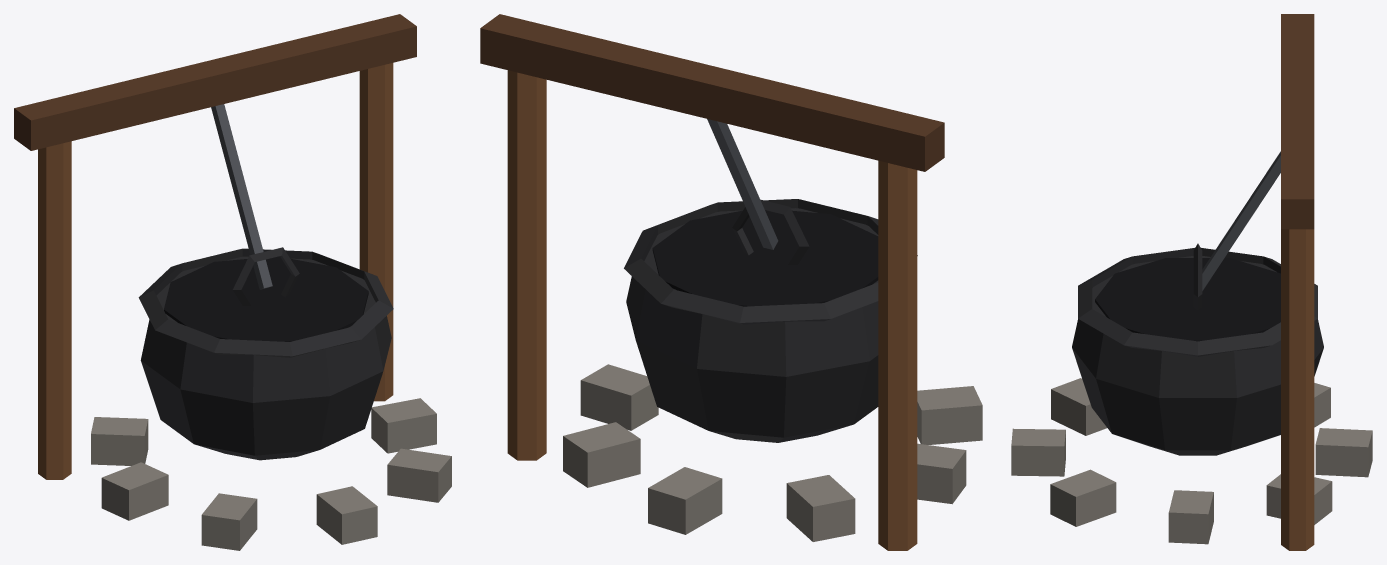
The model's file is vfem2_leather_boilpot_empty.obj.
3 views of the same model, side by side, from view 1: azimuth 30°, elevation 25°; view 2: azimuth 150°, elevation 25°; view 3: azimuth 270°, elevation 25° (orthographic). The views are drawn at different scales.
Visible parts, largest first — view 1: vfem2_leather_boilpot_empty; view 2: vfem2_leather_boilpot_empty; view 3: vfem2_leather_boilpot_empty.
Part boxes in pixels (x1,y1,x2,y2): vfem2_leather_boilpot_empty: (14, 14, 451, 550); vfem2_leather_boilpot_empty: (480, 14, 982, 550); vfem2_leather_boilpot_empty: (1011, 14, 1372, 550).
Bounding box in the file's own units: 1.32 × 1.2 × 1.09.
